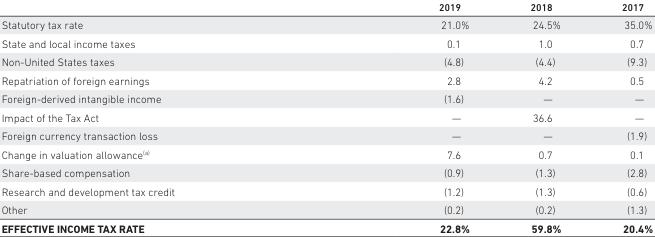table: (0, 0, 652, 234)
table column: (0, 0, 305, 234), (305, 0, 499, 234), (499, 0, 590, 234), (590, 0, 652, 234)
table column header: (0, 0, 652, 15)
table row: (0, 33, 652, 52), (0, 70, 652, 89), (0, 107, 652, 126), (0, 144, 652, 163), (0, 199, 652, 218), (0, 15, 652, 33), (0, 52, 652, 70), (0, 89, 652, 107), (0, 126, 652, 144), (0, 163, 652, 181), (0, 181, 652, 199), (0, 218, 652, 234), (0, 0, 652, 15)
